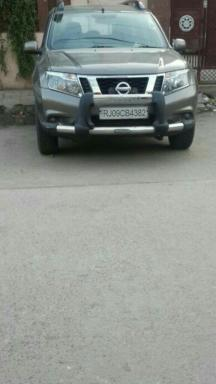number_plate: (95, 105, 149, 121)
